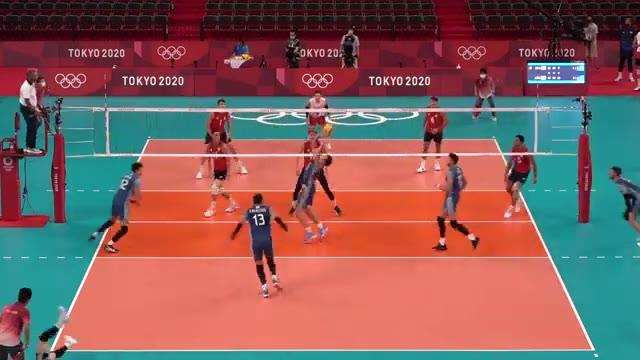ball: (320, 122, 335, 139)
